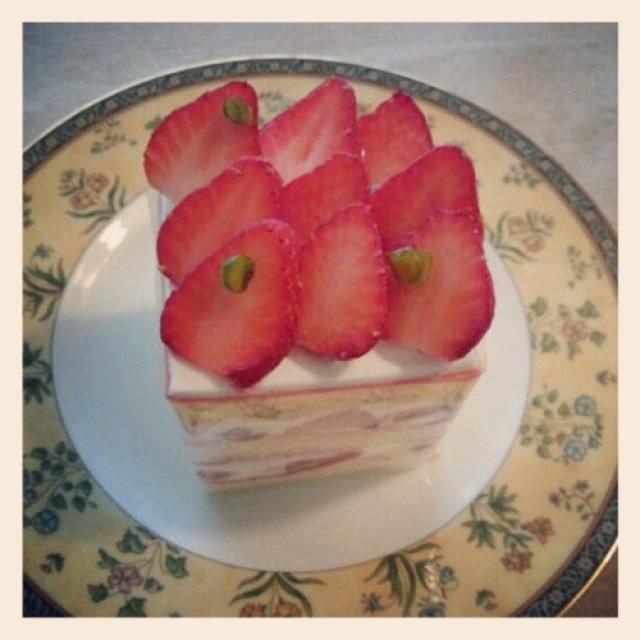蛋糕甜品: (101, 58, 535, 520)
